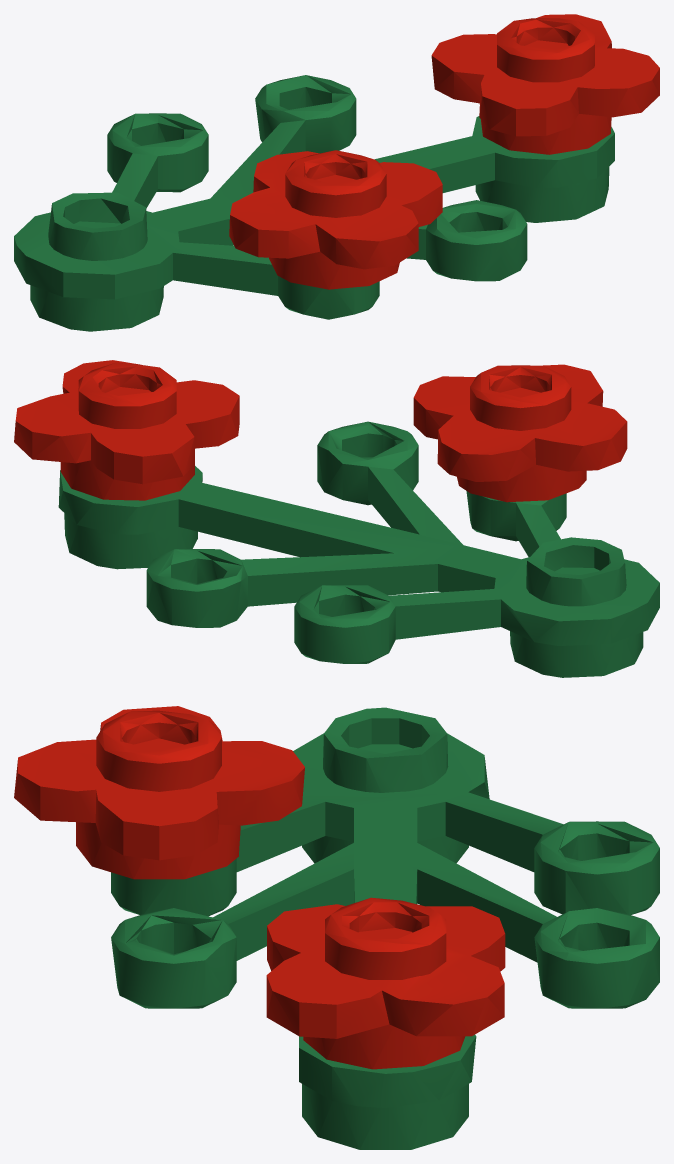
The model's file is frog_stem_b_red.glb.
3 renders of one model, top to bottom at view 1: azimuth 30°, elevation 25°; view 2: azimuth 150°, elevation 25°; view 3: azimuth 270°, elevation 25°, orthographic. The views are drawn at different scales.
Visible parts, largest first — view 1: frog_stem_b_red; view 2: frog_stem_b_red; view 3: frog_stem_b_red.
Boxes of the visible parts, x1,y1,x2,y2 form: frog_stem_b_red: [14, 14, 659, 331]; frog_stem_b_red: [14, 360, 659, 677]; frog_stem_b_red: [14, 706, 659, 1149].
Bounding box in the file's own units: 1.17 × 0.3053 × 0.875.
